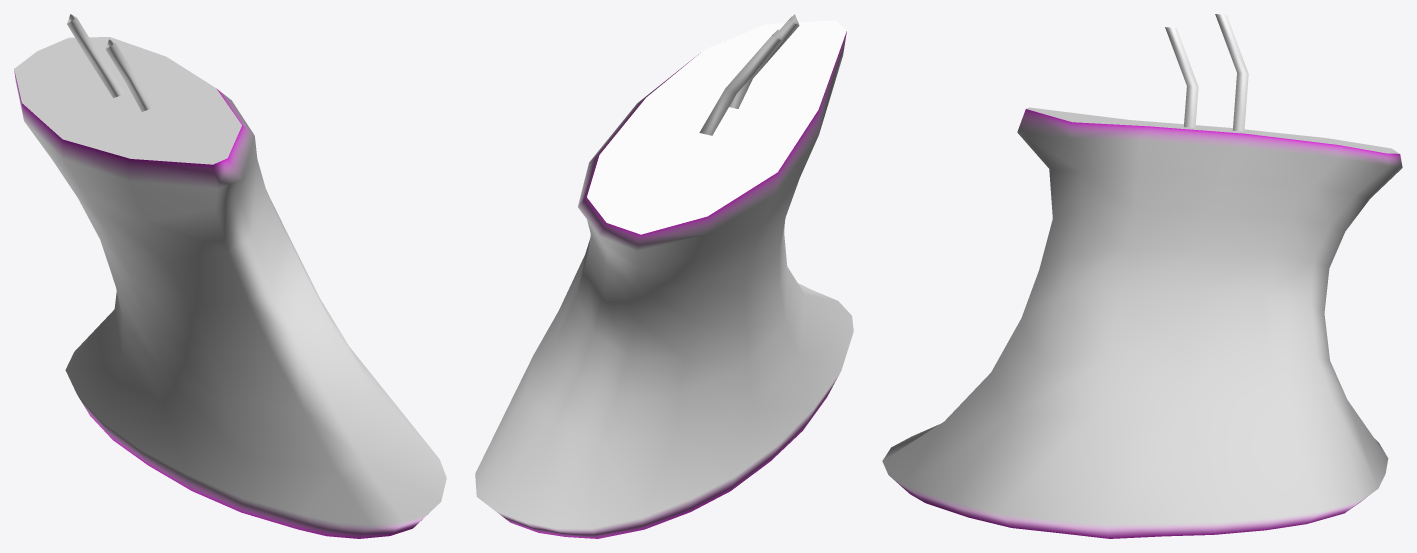
The model's file is Car_Ford_GT_2017_MirrorBaseR_SetE.fbx.
3 renders of one model, left to right at view 1: azimuth 30°, elevation 25°; view 2: azimuth 150°, elevation 25°; view 3: azimuth 270°, elevation 25°, orthographic. The views are drawn at different scales.
Parts seen in each view (by area): view 1: MirrorBaseR 5; view 2: MirrorBaseR 5; view 3: MirrorBaseR 5.
Boxes of the visible parts, left/top/right/bottom form: MirrorBaseR 5: left=14, top=14, right=446, bottom=538; MirrorBaseR 5: left=475, top=14, right=853, bottom=538; MirrorBaseR 5: left=882, top=14, right=1402, bottom=538.
Bounding box in the file's own units: 0.0757 × 0.1208 × 0.1379.
